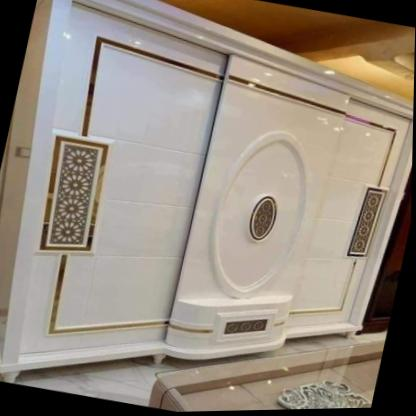Ceramic floor: (12, 362, 187, 407)
Closet: (0, 0, 414, 383)
